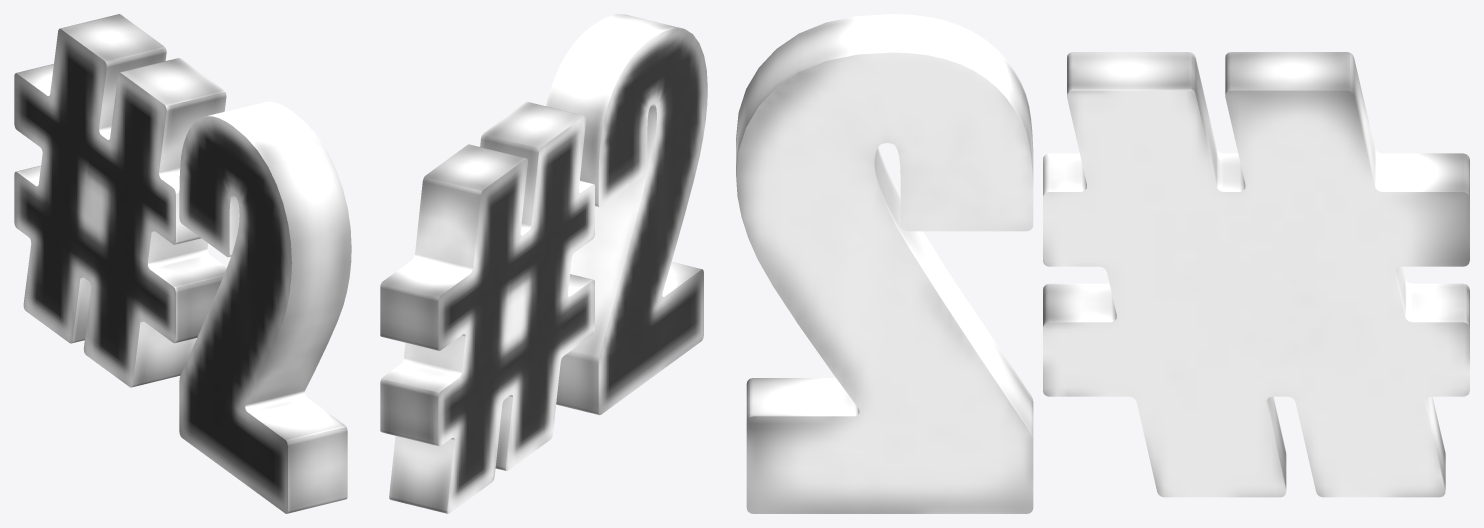
File: SM_Number2_01.fbx
The picture shows the model from 3 angles, left to right: view 1: azimuth 30°, elevation 25°; view 2: azimuth 150°, elevation 25°; view 3: azimuth 270°, elevation 25°; orthographic projection. The views are drawn at different scales.
Visible parts, largest first — view 1: SM_Number2_01_LOD0; view 2: SM_Number2_01_LOD0; view 3: SM_Number2_01_LOD0.
Part boxes in pixels (box(x1,y1,x2,y2)): SM_Number2_01_LOD0: box(14, 14, 351, 513); SM_Number2_01_LOD0: box(380, 14, 707, 513); SM_Number2_01_LOD0: box(736, 14, 1469, 513).
Bounding box in the file's own units: 7.43 × 59.73 × 41.45.
1 material, 1 textured.
